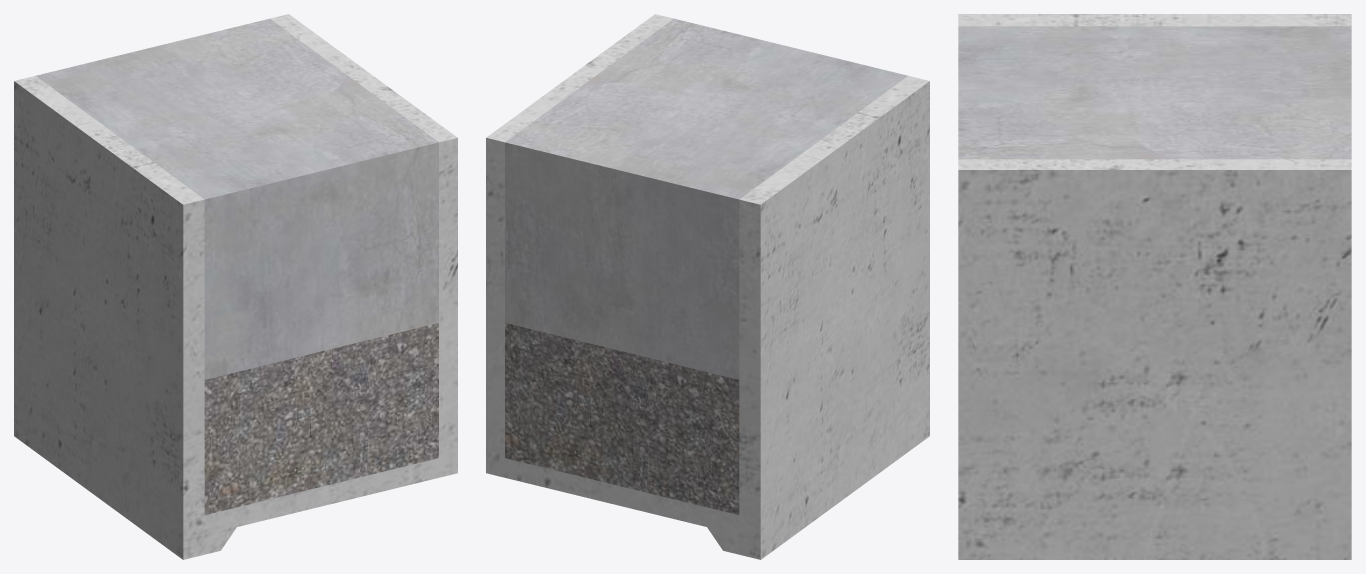
The model's file is flush.glb.
The picture shows the model from 3 angles, left to right: view 1: azimuth 30°, elevation 25°; view 2: azimuth 150°, elevation 25°; view 3: azimuth 270°, elevation 25°; orthographic projection. The views are drawn at different scales.
Parts seen in each view (by area): view 1: 外围包覆层, 墙, 平墙过梁; view 2: 外围包覆层, 墙, 平墙过梁; view 3: 外围包覆层, 墙.
Part boxes in pixels (left/top/right/bottom): 外围包覆层: left=14, top=14, right=457, bottom=559; 墙: left=36, top=18, right=438, bottom=379; 平墙过梁: left=204, top=323, right=438, bottom=514; 外围包覆层: left=486, top=14, right=929, bottom=559; 墙: left=505, top=18, right=907, bottom=379; 平墙过梁: left=505, top=323, right=739, bottom=514; 外围包覆层: left=958, top=14, right=1351, bottom=559; 墙: left=958, top=26, right=1351, bottom=159.
Size of the model in its own units: 0.2814 by 0.3476 by 0.3.
Materials: 3 (3 with a texture image).
